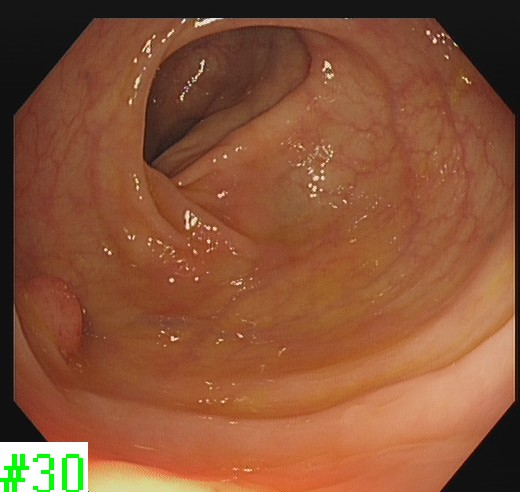adenoma: (25, 270, 86, 364)
